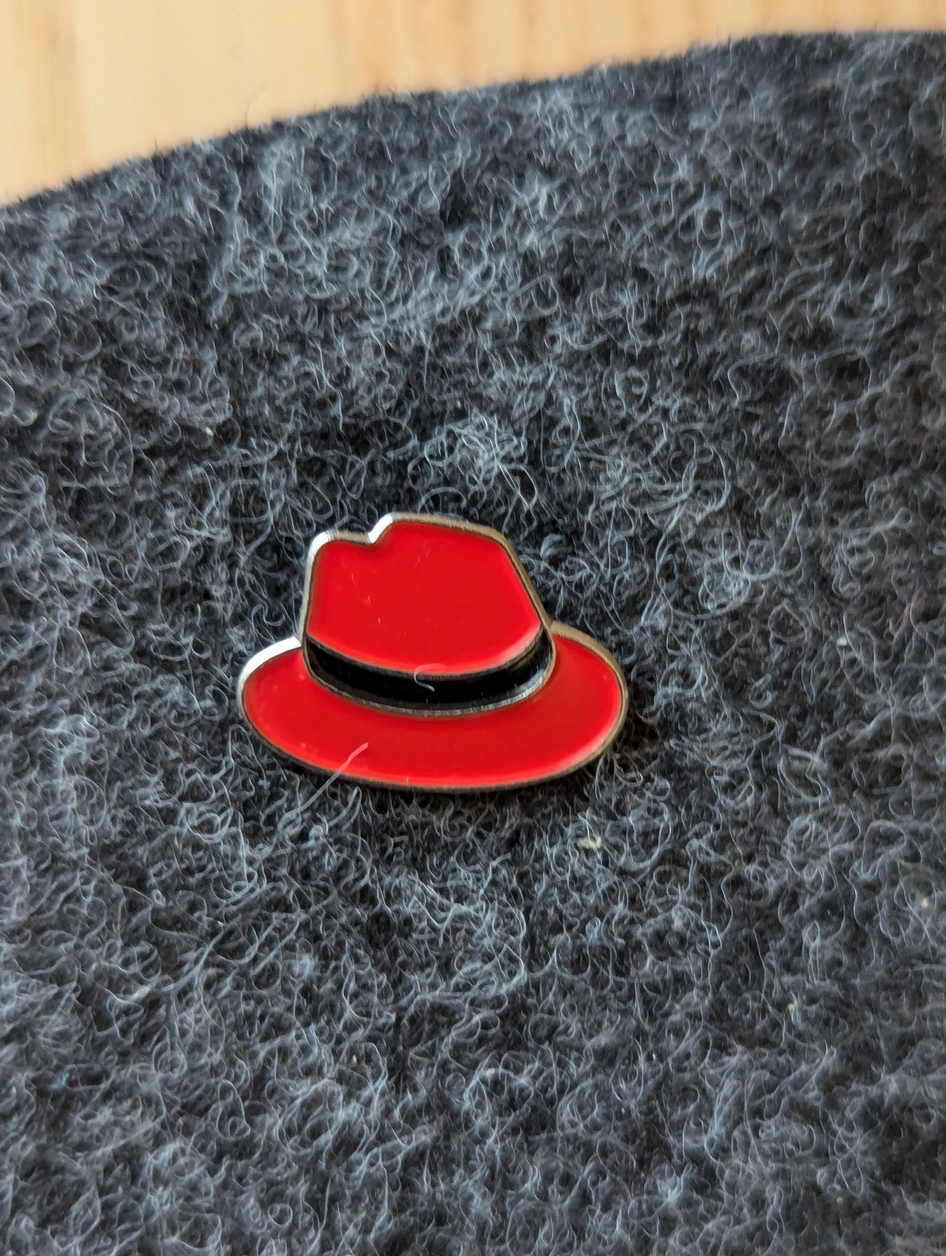Red-Hat: (137, 459, 731, 878)
